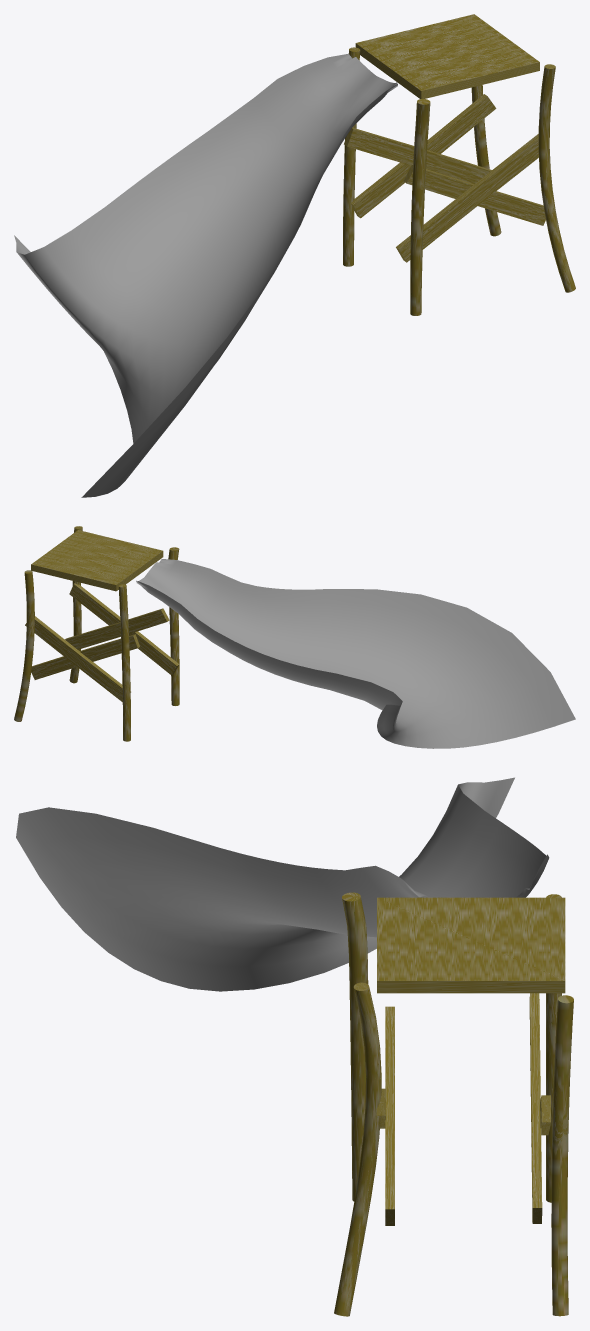
Rendered from tower3.FBX.
3 renders of one model, top to bottom at view 1: azimuth 30°, elevation 25°; view 2: azimuth 150°, elevation 25°; view 3: azimuth 270°, elevation 25°, orthographic. The views are drawn at different scales.
Parts seen in each view (by area): view 1: Loft001, Box001; view 2: Loft001, Box001; view 3: Loft001, Box001.
Boxes of the visible parts, x1,y1,x2,y2 form: Loft001: (14,53,397,497); Box001: (343,14,575,315); Loft001: (136,559,575,748); Box001: (14,526,179,741); Loft001: (16,777,549,991); Box001: (334,892,573,1316).
Size of the model in its own units: 153 by 58.26 by 85.92.
